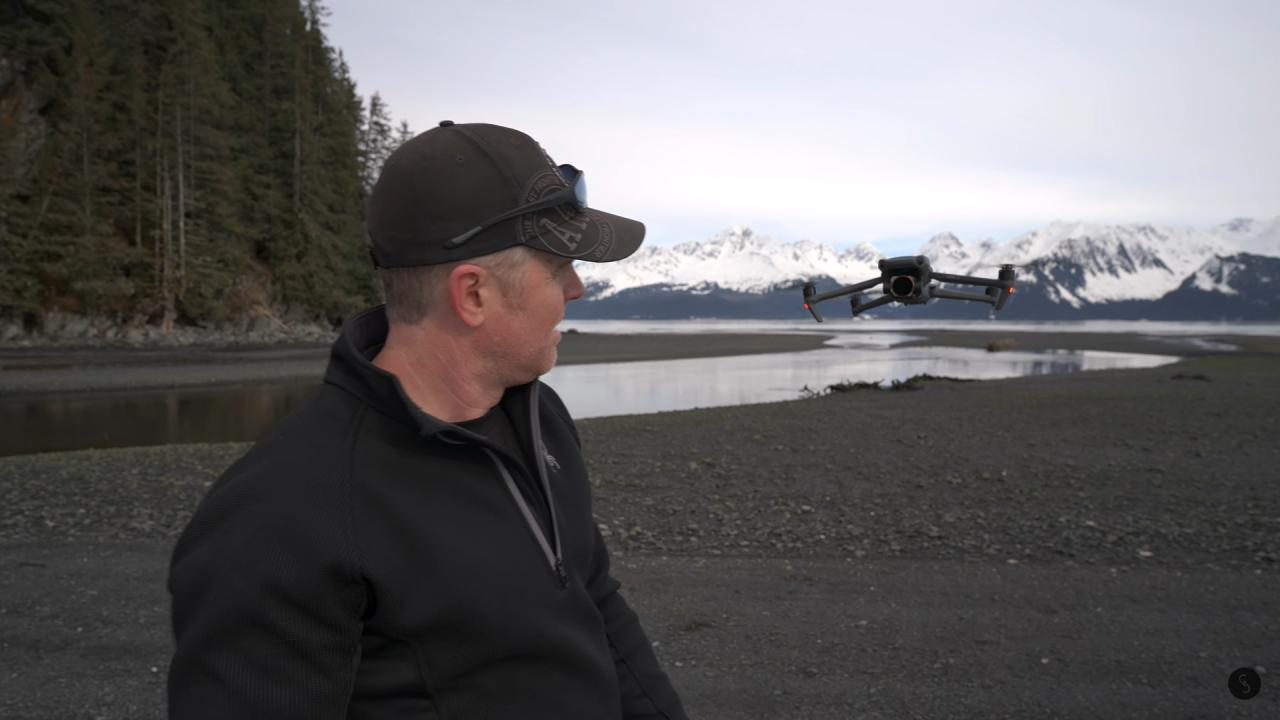Drone: (790, 248, 1031, 332)
